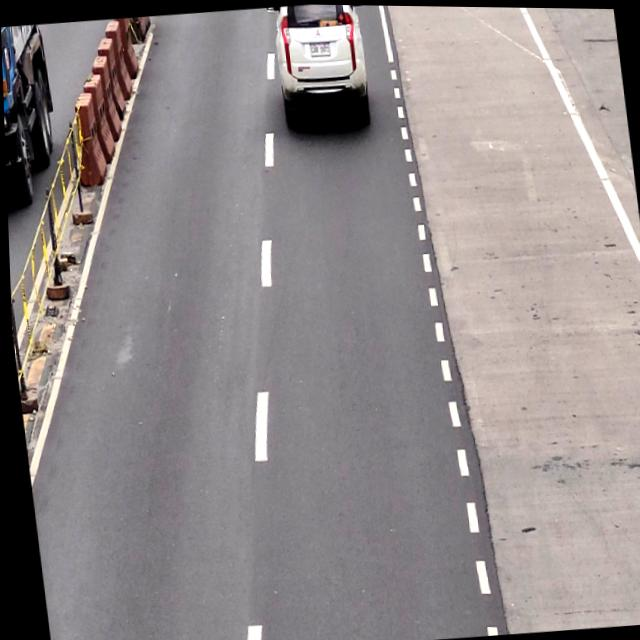Car: (269, 3, 372, 127)
License-Plate: (307, 38, 333, 57)
